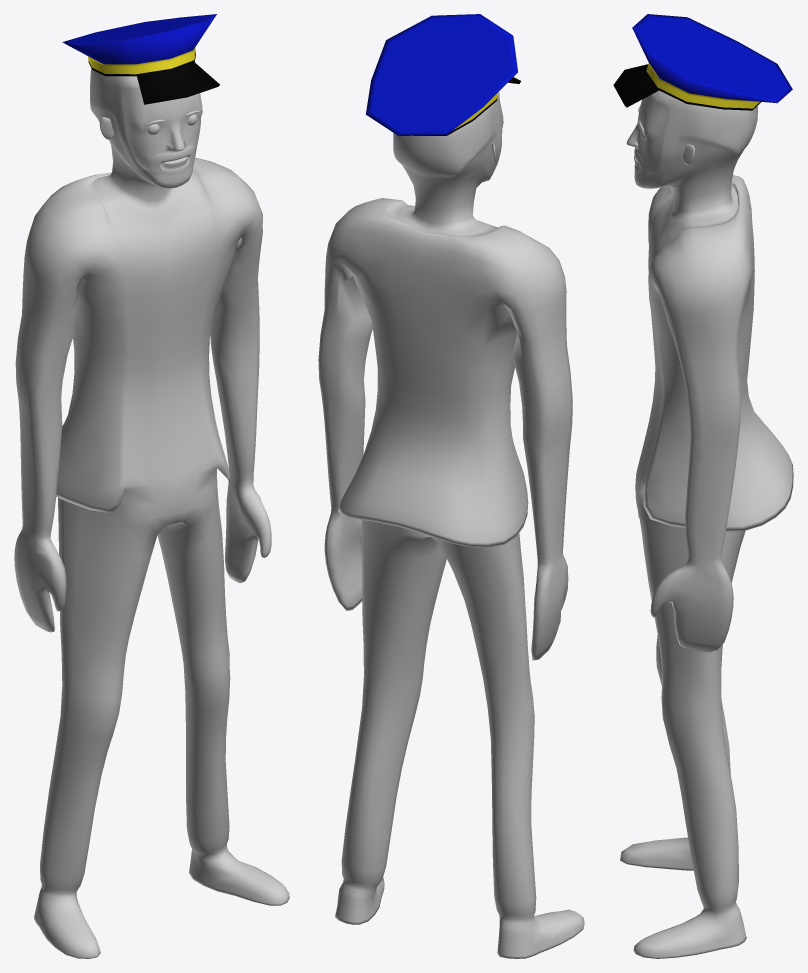
The model's file is captain.fbx.
3 views of the same model, side by side, from view 1: azimuth 30°, elevation 25°; view 2: azimuth 150°, elevation 25°; view 3: azimuth 270°, elevation 25° (orthographic). The views are drawn at different scales.
Parts seen in each view (by area): view 1: BaseHuman_Cylinder.001, hat; view 2: BaseHuman_Cylinder.001, hat; view 3: BaseHuman_Cylinder.001, hat.
Part boxes in pixels (x1=…): BaseHuman_Cylinder.001: x1=14, y1=62, x2=289, y2=958; hat: x1=62, y1=14, x2=219, y2=104; BaseHuman_Cylinder.001: x1=318, y1=91, x2=584, y2=958; hat: x1=365, y1=14, x2=520, y2=136; BaseHuman_Cylinder.001: x1=620, y1=90, x2=793, y2=958; hat: x1=613, y1=14, x2=792, y2=110.
Size of the model in its own units: 140 by 502 by 93.64.
